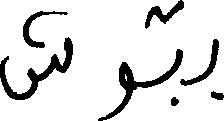X: (0, 6, 71, 104), (98, 57, 132, 120), (170, 0, 182, 110), (208, 34, 223, 104)
